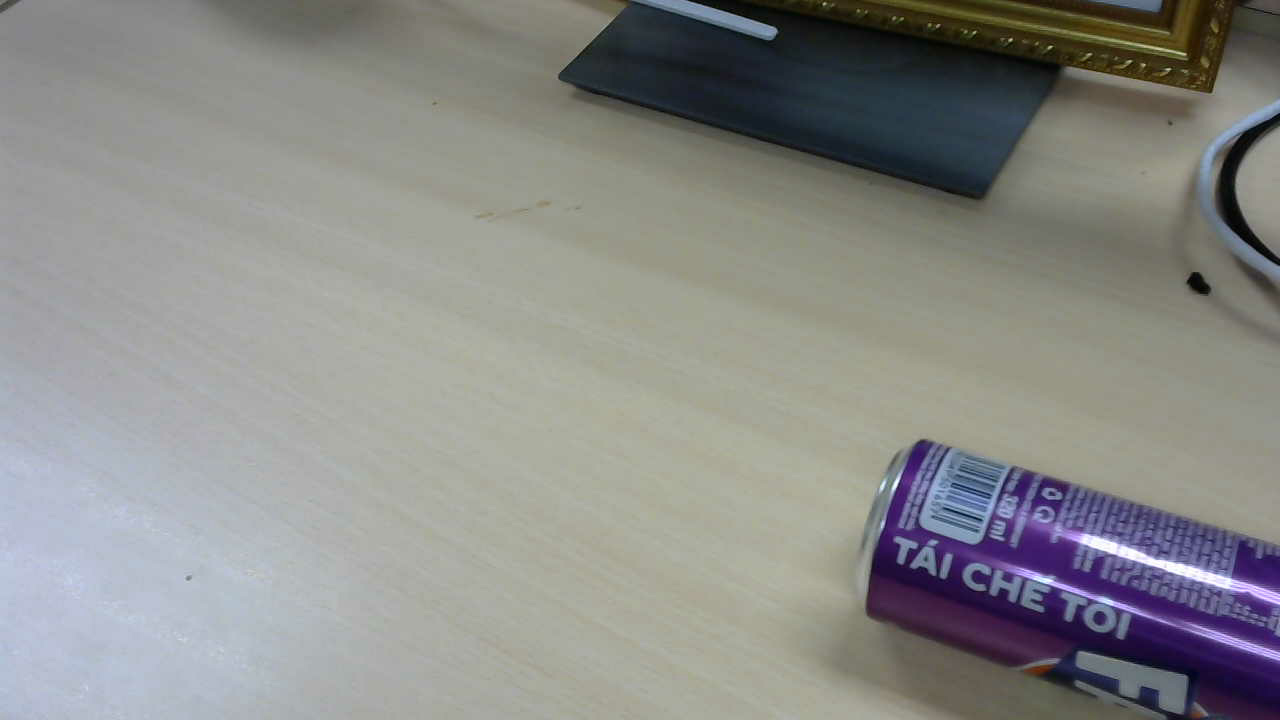Fanta: (864, 439, 1280, 697)
